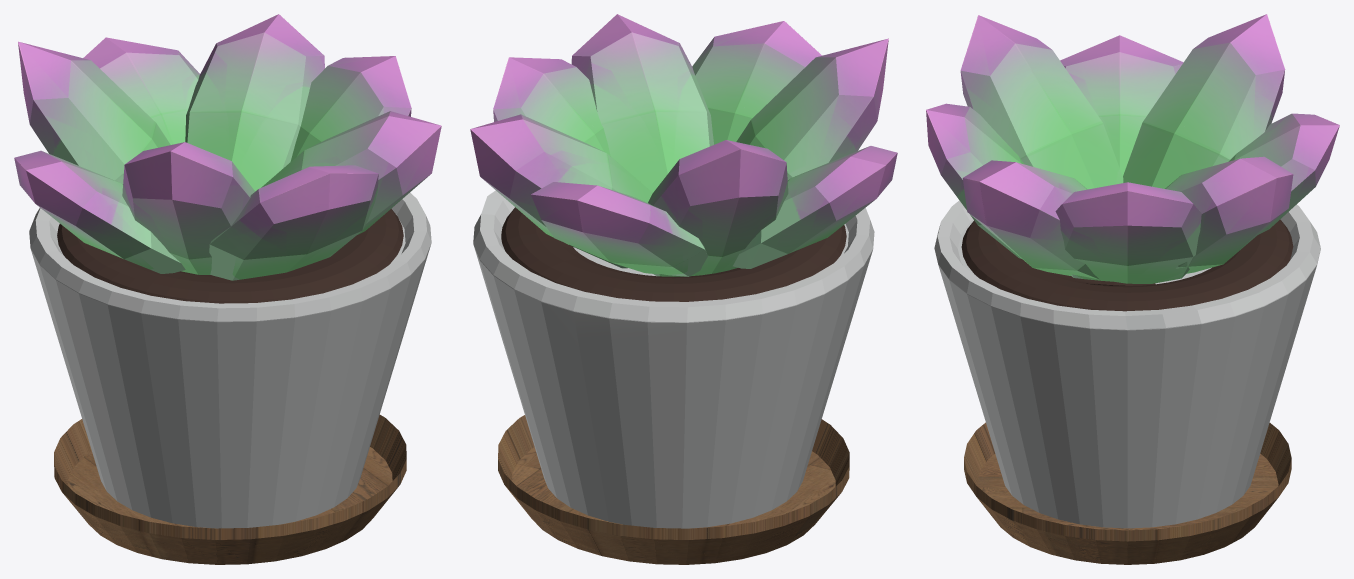
Rendered from succulent.glb.
3 views of the same model, side by side, from view 1: azimuth 30°, elevation 25°; view 2: azimuth 150°, elevation 25°; view 3: azimuth 270°, elevation 25° (orthographic). The views are drawn at different scales.
Visible parts, largest first — view 1: plant, pot, tray, Torus; view 2: plant, pot, tray, Torus; view 3: plant, pot, tray, Torus.
Part boxes in pixels (box(x1,y1,x2,y2)): plant: box(14, 14, 441, 280); pot: box(29, 192, 431, 528); tray: box(54, 414, 406, 564); Torus: box(57, 208, 403, 303); plant: box(470, 14, 897, 276); pot: box(473, 190, 874, 528); tray: box(498, 415, 849, 564); Torus: box(501, 207, 846, 301); plant: box(926, 14, 1339, 283); pot: box(934, 200, 1320, 528); tray: box(964, 422, 1291, 564); Torus: box(961, 219, 1293, 311).
Bounding box in the file's own units: 3.39 × 3.75 × 3.31.
4 materials, 4 textured.
